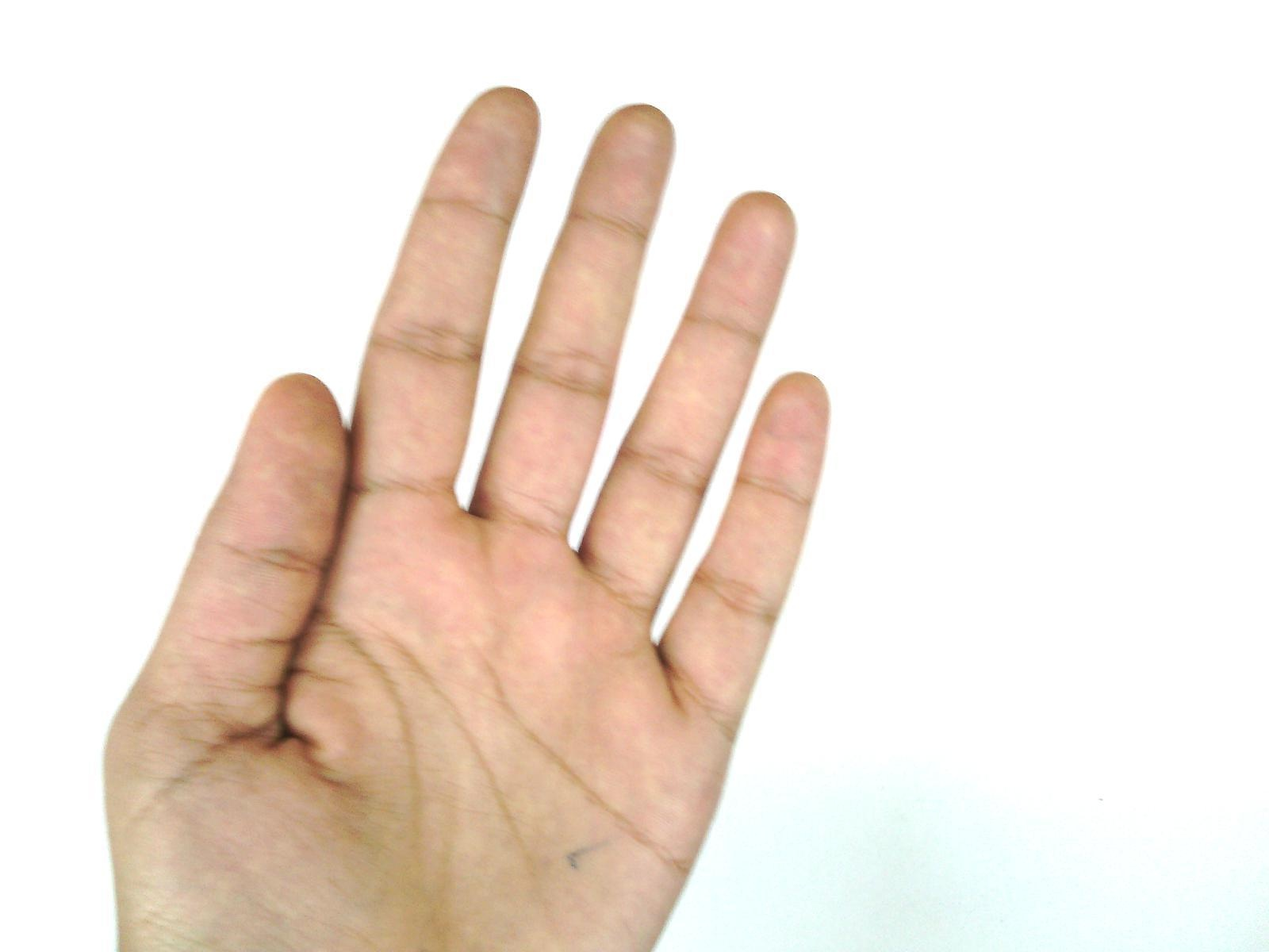open_palm: (100, 85, 834, 951)
